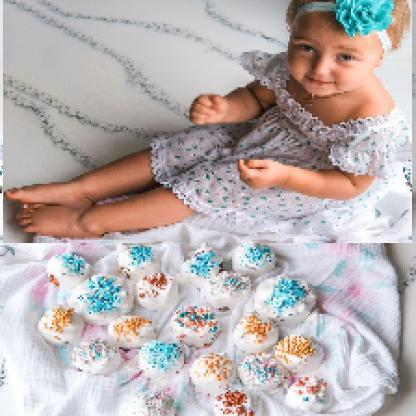child: (4, 1, 414, 245)
